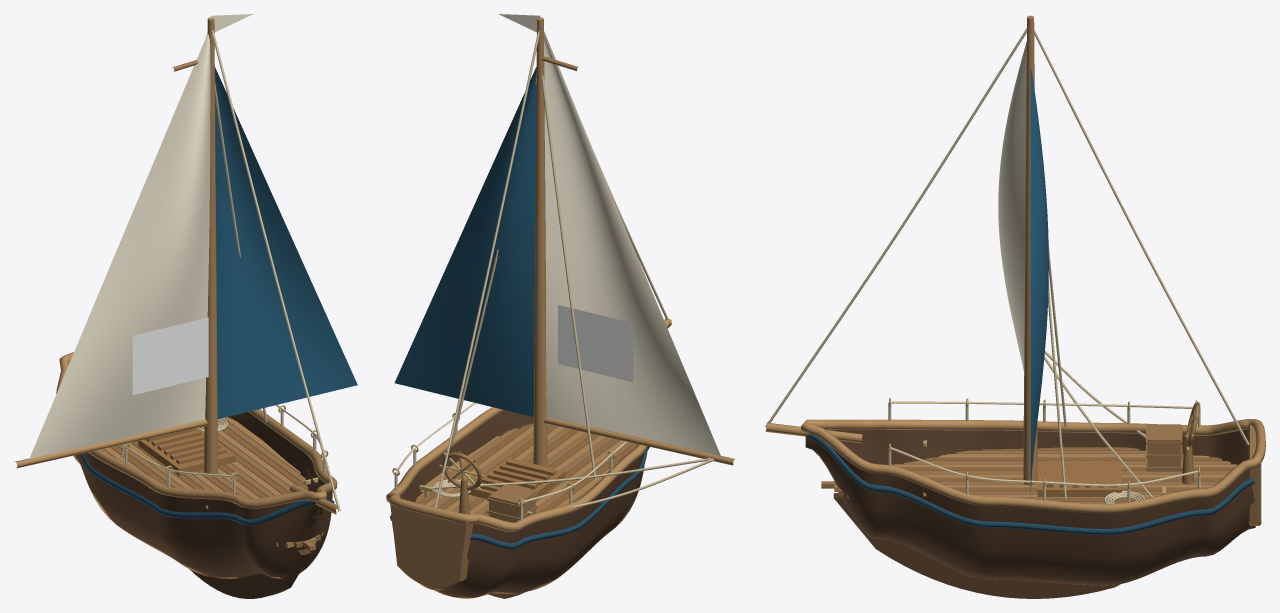
Rendered from youthverse-explorer.glb.
3 views of the same model, side by side, from view 1: azimuth 30°, elevation 25°; view 2: azimuth 150°, elevation 25°; view 3: azimuth 270°, elevation 25° (orthographic). The views are drawn at different scales.
Parts seen in each view (by area): view 1: MainSail, JibSail, Hull_Seam_Backing, SailMarkFront, Gunwale_Thick_Timber_Rim, Mast, Deck_Hatch, Deck_Planks_1, Deck_Planks_0, Standing_And_Running_Rigging, Deck_Planks_2, Keel (+4 smaller); view 2: MainSail, JibSail, Hull_Seam_Backing, Standing_And_Running_Rigging, Stern_Transom, Mast, SailMarkBack, Gunwale_Thick_Timber_Rim, Deck_Planks_1, Deck_Planks_2, Deck_Planks_0, Deck_Hatch (+6 smaller); view 3: Hull_Seam_Backing, Gunwale_Thick_Timber_Rim, MainSail, Hull_Inner_Shell, JibSail, Standing_And_Running_Rigging, Keel, Deck_Planks_2, Deck_Planks_0, Mast, Deck_Planks_1, Navy_Hull_Trim (+5 smaller).
Part boxes in pixels (bbox=[...]): MainSail: bbox=[29, 33, 210, 458]; JibSail: bbox=[215, 67, 357, 419]; Hull_Seam_Backing: bbox=[75, 412, 332, 577]; SailMarkFront: bbox=[132, 317, 208, 395]; Gunwale_Thick_Timber_Rim: bbox=[56, 352, 337, 508]; Mast: bbox=[204, 17, 217, 473]; Deck_Hatch: bbox=[138, 427, 235, 475]; Deck_Planks_1: bbox=[104, 417, 316, 547]; Deck_Planks_0: bbox=[102, 421, 323, 550]; Standing_And_Running_Rigging: bbox=[120, 30, 340, 511]; Deck_Planks_2: bbox=[110, 425, 320, 547]; Keel: bbox=[190, 548, 311, 598]; MainSail: bbox=[543, 33, 720, 456]; JibSail: bbox=[394, 67, 536, 416]; Hull_Seam_Backing: bbox=[400, 410, 648, 597]; Standing_And_Running_Rigging: bbox=[429, 31, 714, 508]; Stern_Transom: bbox=[390, 502, 472, 588]; Mast: bbox=[533, 17, 547, 467]; SailMarkBack: bbox=[558, 305, 633, 382]; Gunwale_Thick_Timber_Rim: bbox=[386, 407, 647, 531]; Deck_Planks_1: bbox=[420, 425, 625, 514]; Deck_Planks_2: bbox=[418, 424, 637, 515]; Deck_Planks_0: bbox=[415, 423, 633, 514]; Deck_Hatch: bbox=[468, 458, 565, 498]; Hull_Seam_Backing: bbox=[805, 429, 1255, 585]; Gunwale_Thick_Timber_Rim: bbox=[801, 419, 1265, 513]; MainSail: bbox=[998, 41, 1026, 372]; Hull_Inner_Shell: bbox=[840, 435, 1248, 464]; JibSail: bbox=[1030, 68, 1048, 493]; Standing_And_Running_Rigging: bbox=[765, 28, 1249, 499]; Keel: bbox=[833, 492, 1120, 598]; Deck_Planks_2: bbox=[838, 447, 1233, 501]; Deck_Planks_0: bbox=[821, 450, 1230, 503]; Mast: bbox=[1023, 15, 1037, 485]; Deck_Planks_1: bbox=[834, 454, 1237, 497]; Navy_Hull_Trim: bbox=[808, 433, 1254, 534].
Size of the model in its own units: 2.89 by 4.57 by 3.56.
